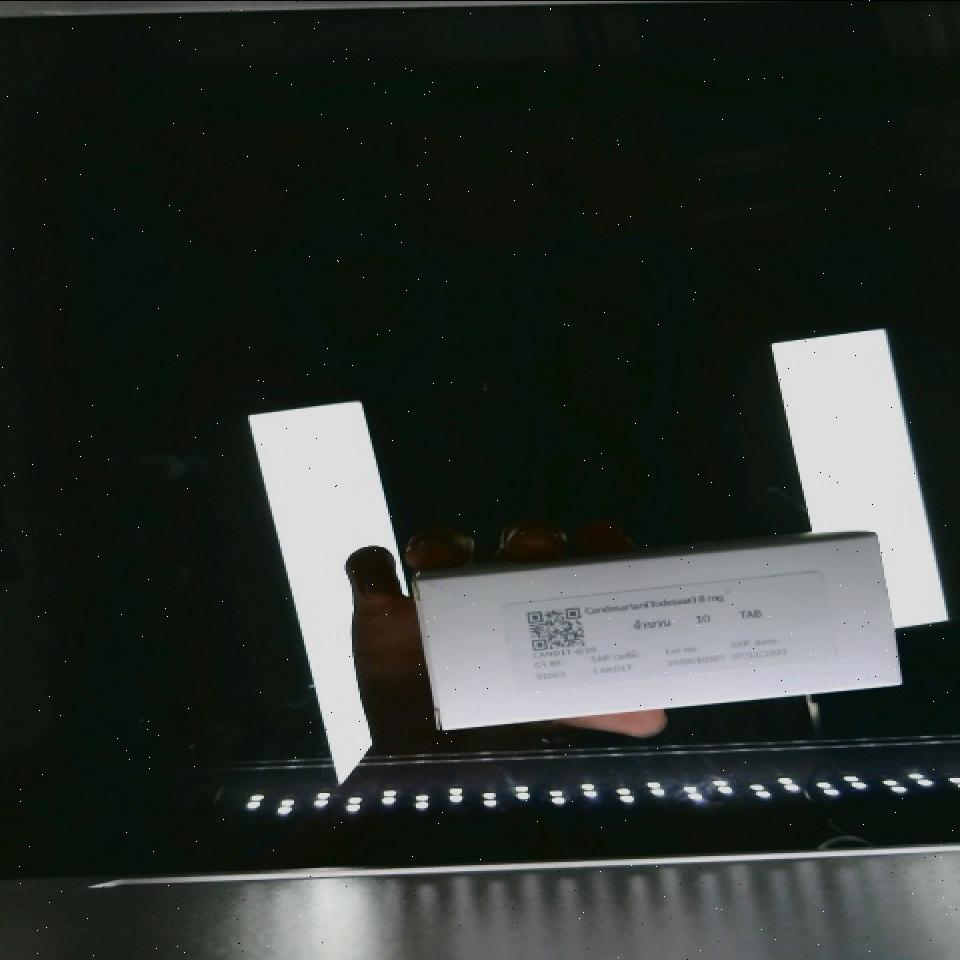medicine_box: (418, 530, 902, 726)
qr_code: (506, 594, 606, 667)
